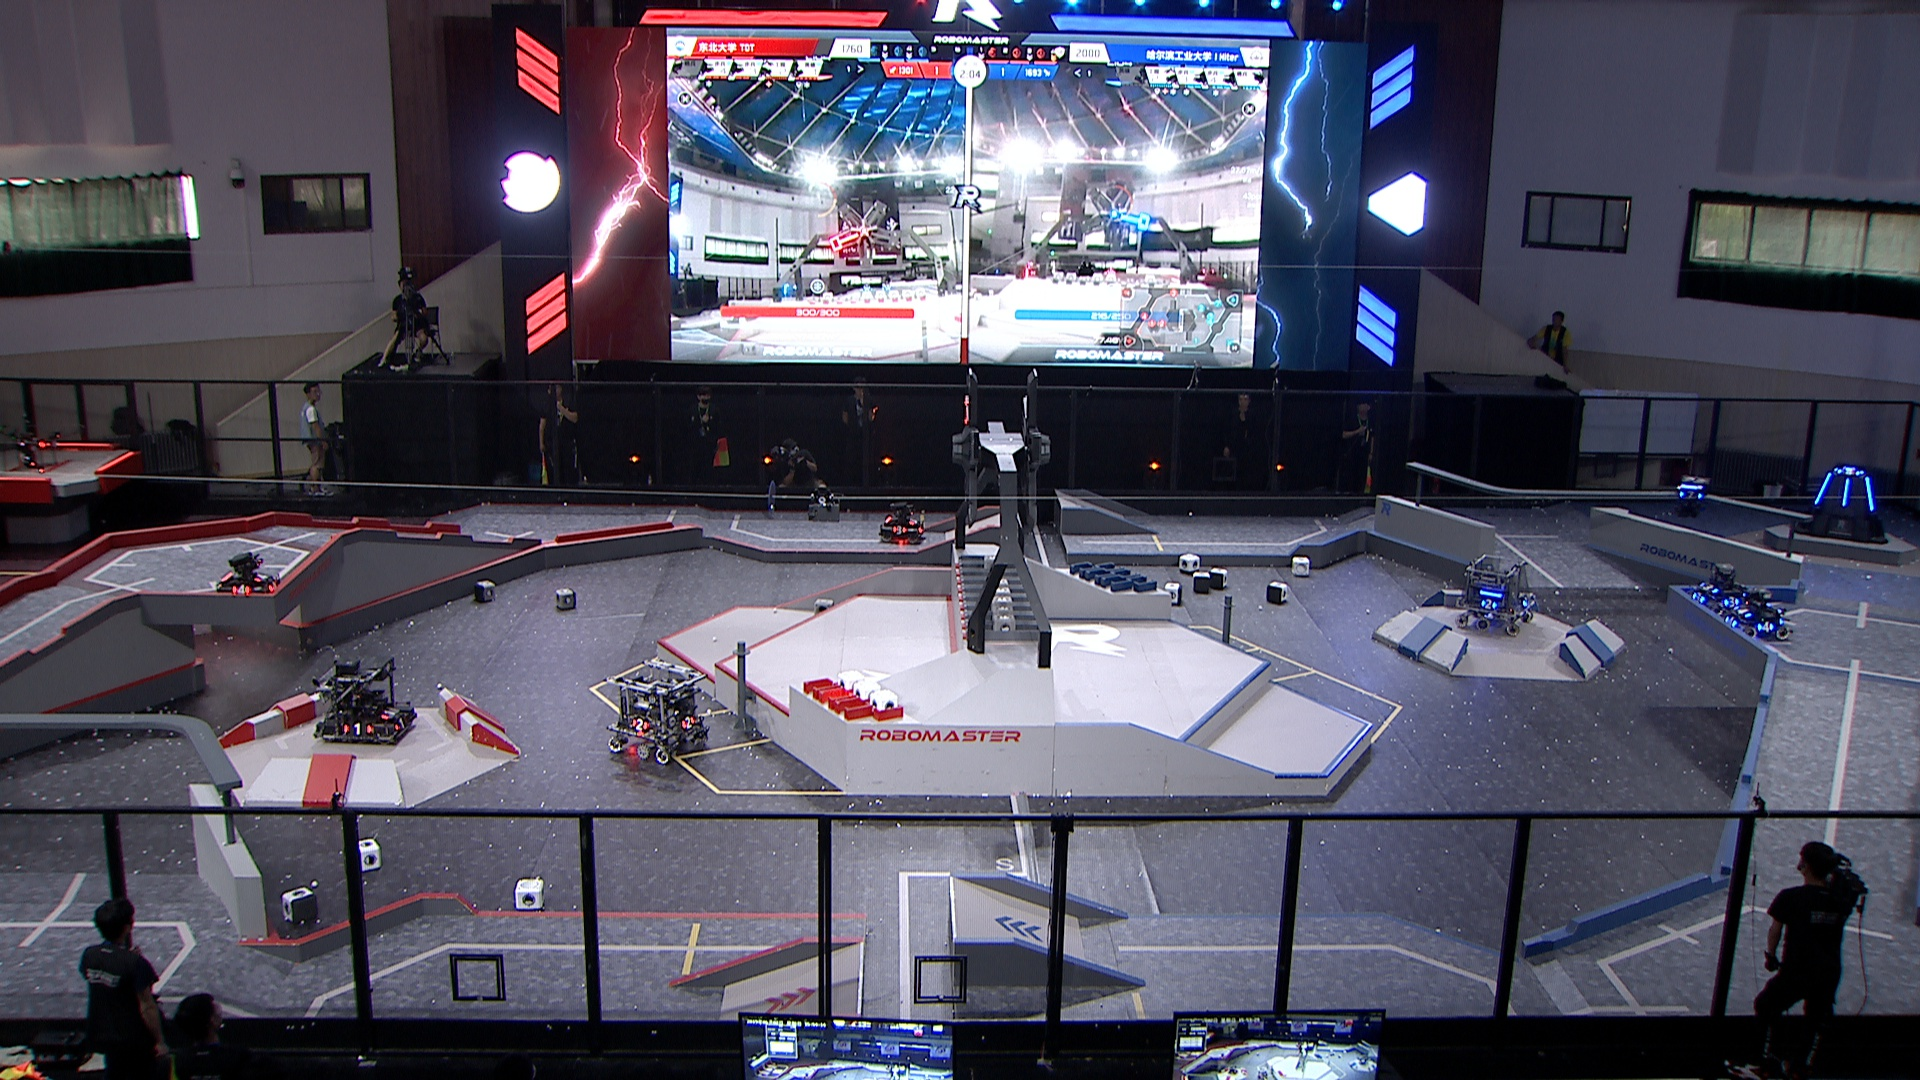armor: (1811, 469, 1836, 505), (1861, 473, 1878, 513), (339, 723, 376, 737), (390, 713, 410, 733), (1676, 488, 1702, 502), (1840, 476, 1851, 508), (1698, 579, 1722, 595), (626, 717, 651, 732), (258, 579, 282, 593), (1731, 603, 1755, 617), (1755, 618, 1775, 636), (1837, 465, 1859, 480), (680, 712, 698, 731), (376, 705, 400, 719), (1721, 593, 1741, 609), (252, 568, 272, 583), (229, 583, 253, 595), (1480, 597, 1501, 611), (1691, 589, 1708, 605), (1722, 612, 1738, 629), (887, 524, 910, 535), (1519, 593, 1532, 609), (906, 514, 920, 527)
base: (1792, 458, 1890, 549)
car: (605, 657, 713, 766), (310, 651, 415, 746), (1453, 553, 1538, 638), (1718, 589, 1797, 642), (1681, 564, 1753, 618), (214, 549, 286, 599), (876, 500, 928, 553)
watcher: (1669, 473, 1713, 518)
